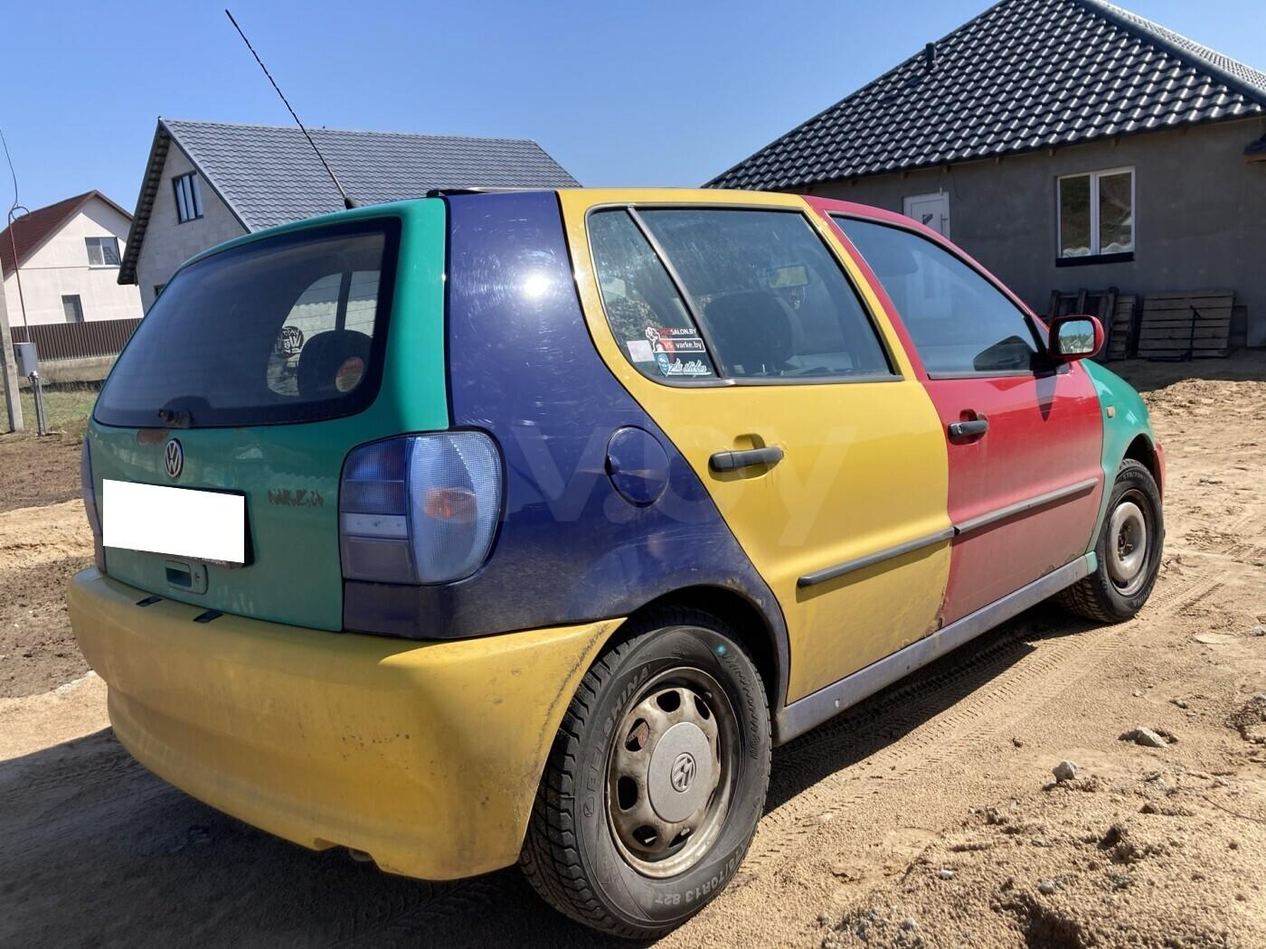Polo_1994-2002: (46, 185, 1173, 933)
